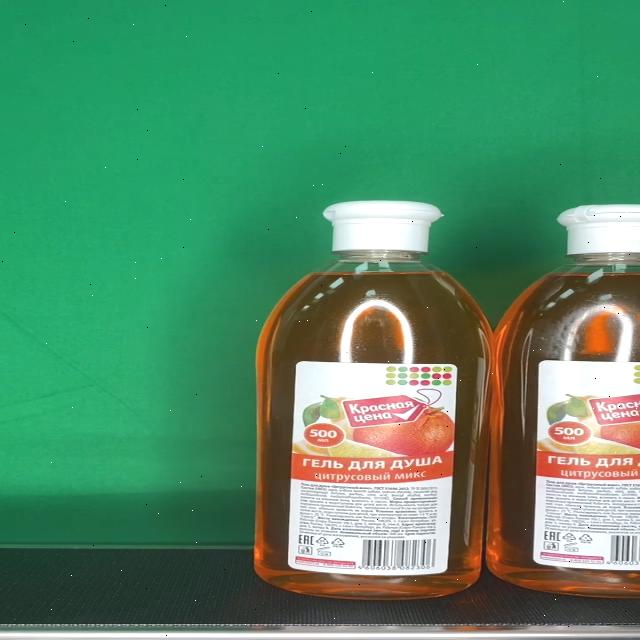Bottle: (254, 202, 494, 599), (488, 200, 640, 604)
Cap: (323, 202, 443, 253)
